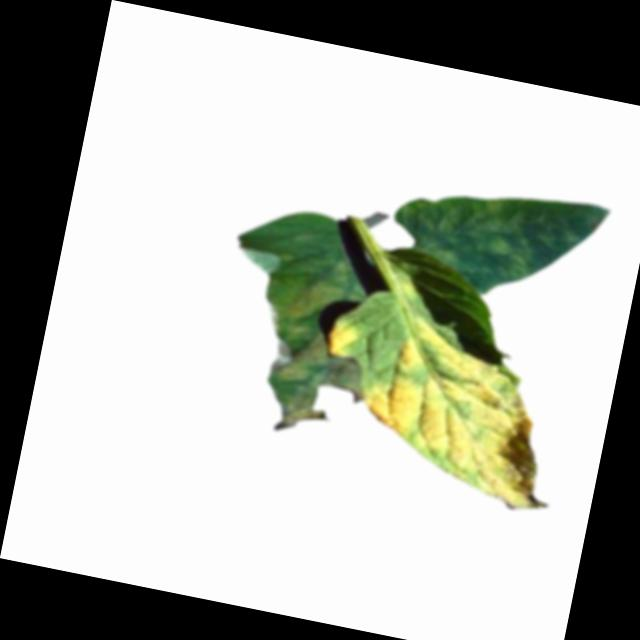Leaf_Mold: (350, 308, 580, 516), (387, 166, 611, 316), (242, 255, 389, 448)
